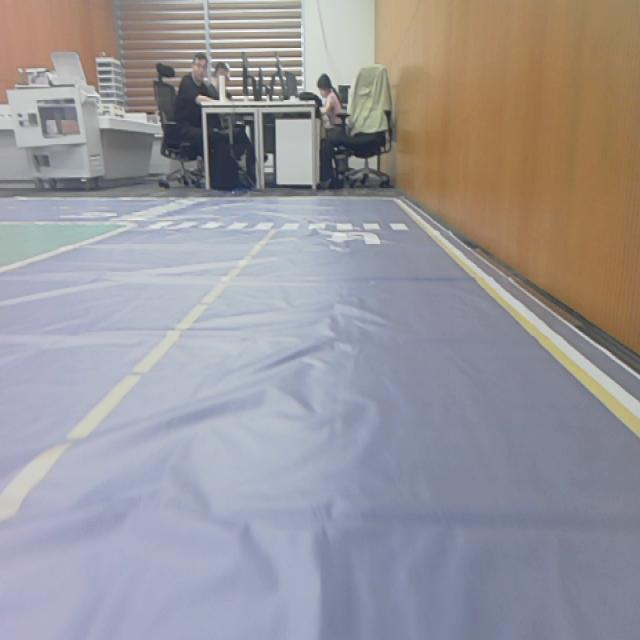left_lane: (0, 228, 274, 520)
right_lane: (394, 200, 640, 439)
